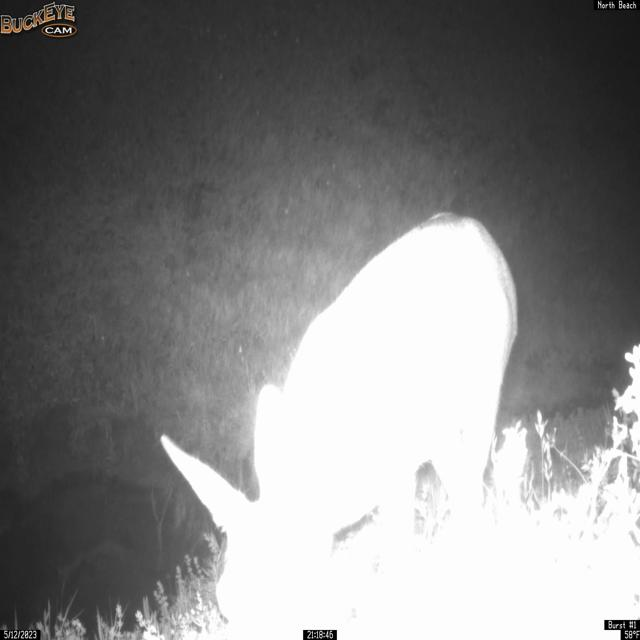deer: (159, 210, 520, 639)
